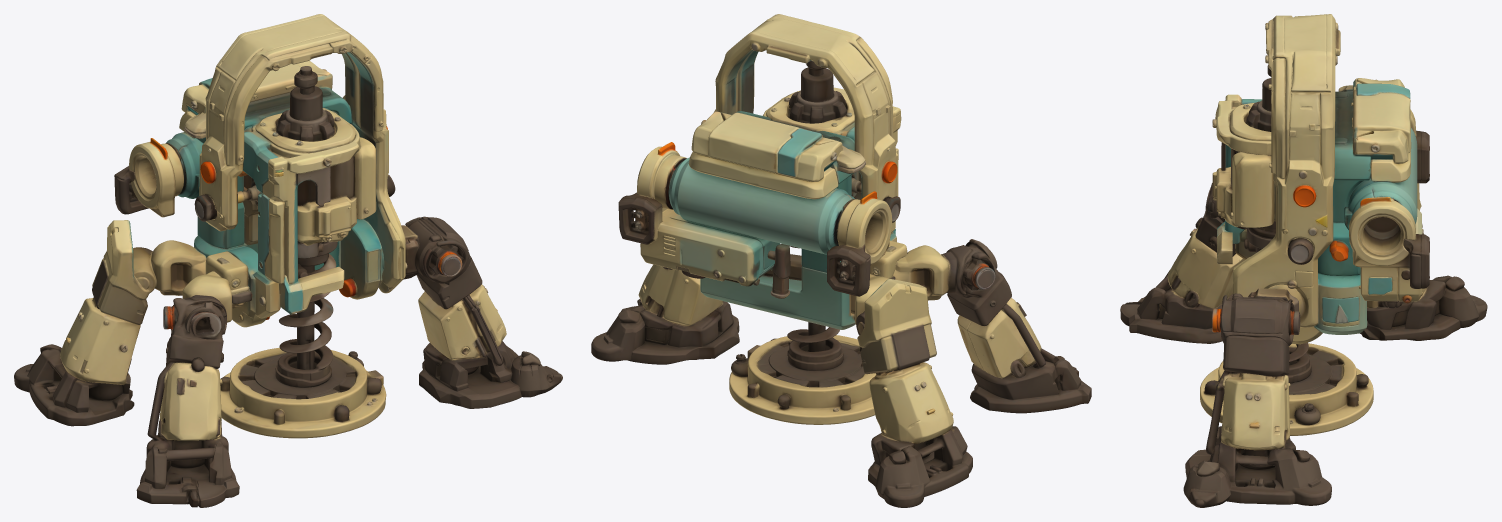
File: miner.glb
3 views of the same model, side by side, from view 1: azimuth 30°, elevation 25°; view 2: azimuth 150°, elevation 25°; view 3: azimuth 270°, elevation 25° (orthographic).
Parts seen in each view (by area): view 1: FC_housing, FC_spindle; view 2: FC_housing, FC_spindle; view 3: FC_housing, FC_spindle.
Boxes of the visible parts, x1,y1,x2,y2 form: FC_housing: [14, 14, 562, 507]; FC_spindle: [275, 298, 333, 385]; FC_housing: [591, 14, 1091, 507]; FC_spindle: [787, 322, 843, 369]; FC_housing: [1120, 14, 1487, 507]; FC_spindle: [1287, 342, 1311, 379].
Size of the model in its own units: 0.9547 by 0.7642 by 0.6826.
Materials: 1 (1 with a texture image).
